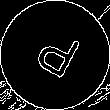P_SW: (27, 24, 83, 86)
